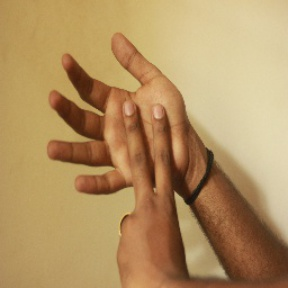N: (39, 29, 209, 239)
